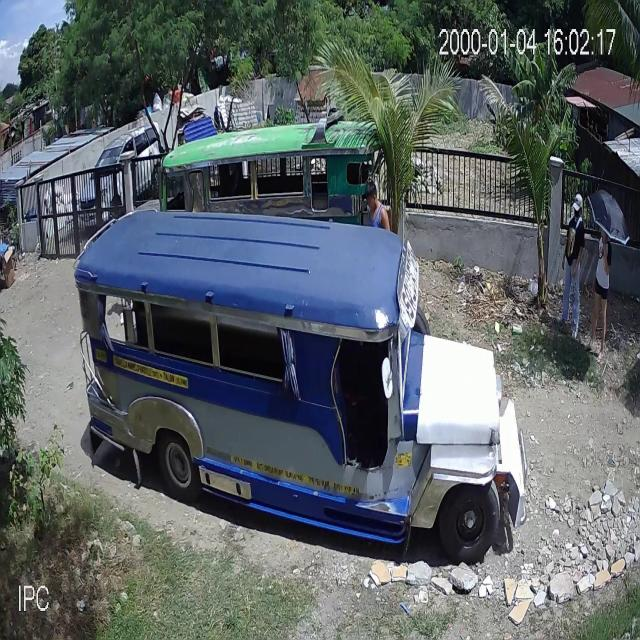standing: (556, 194, 588, 342), (589, 221, 616, 366)
walking: (365, 180, 392, 233)
